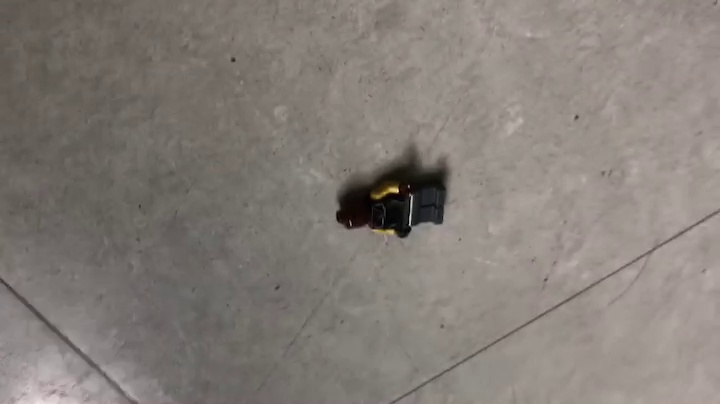people: (334, 166, 448, 240)
